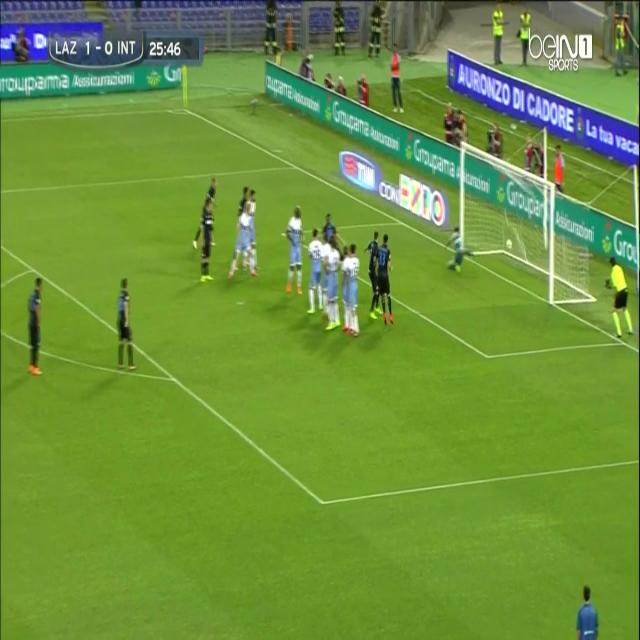Ball: (503, 234, 515, 253)
Goalkeeper: (445, 225, 478, 274)
Player: (225, 202, 257, 283), (284, 204, 305, 300), (114, 276, 134, 374), (25, 276, 43, 380), (378, 233, 397, 326), (324, 233, 341, 334), (199, 198, 217, 285), (364, 229, 381, 321), (306, 228, 322, 318), (348, 242, 361, 342), (342, 241, 351, 340), (321, 209, 338, 242)
Referee: (606, 254, 636, 345)
